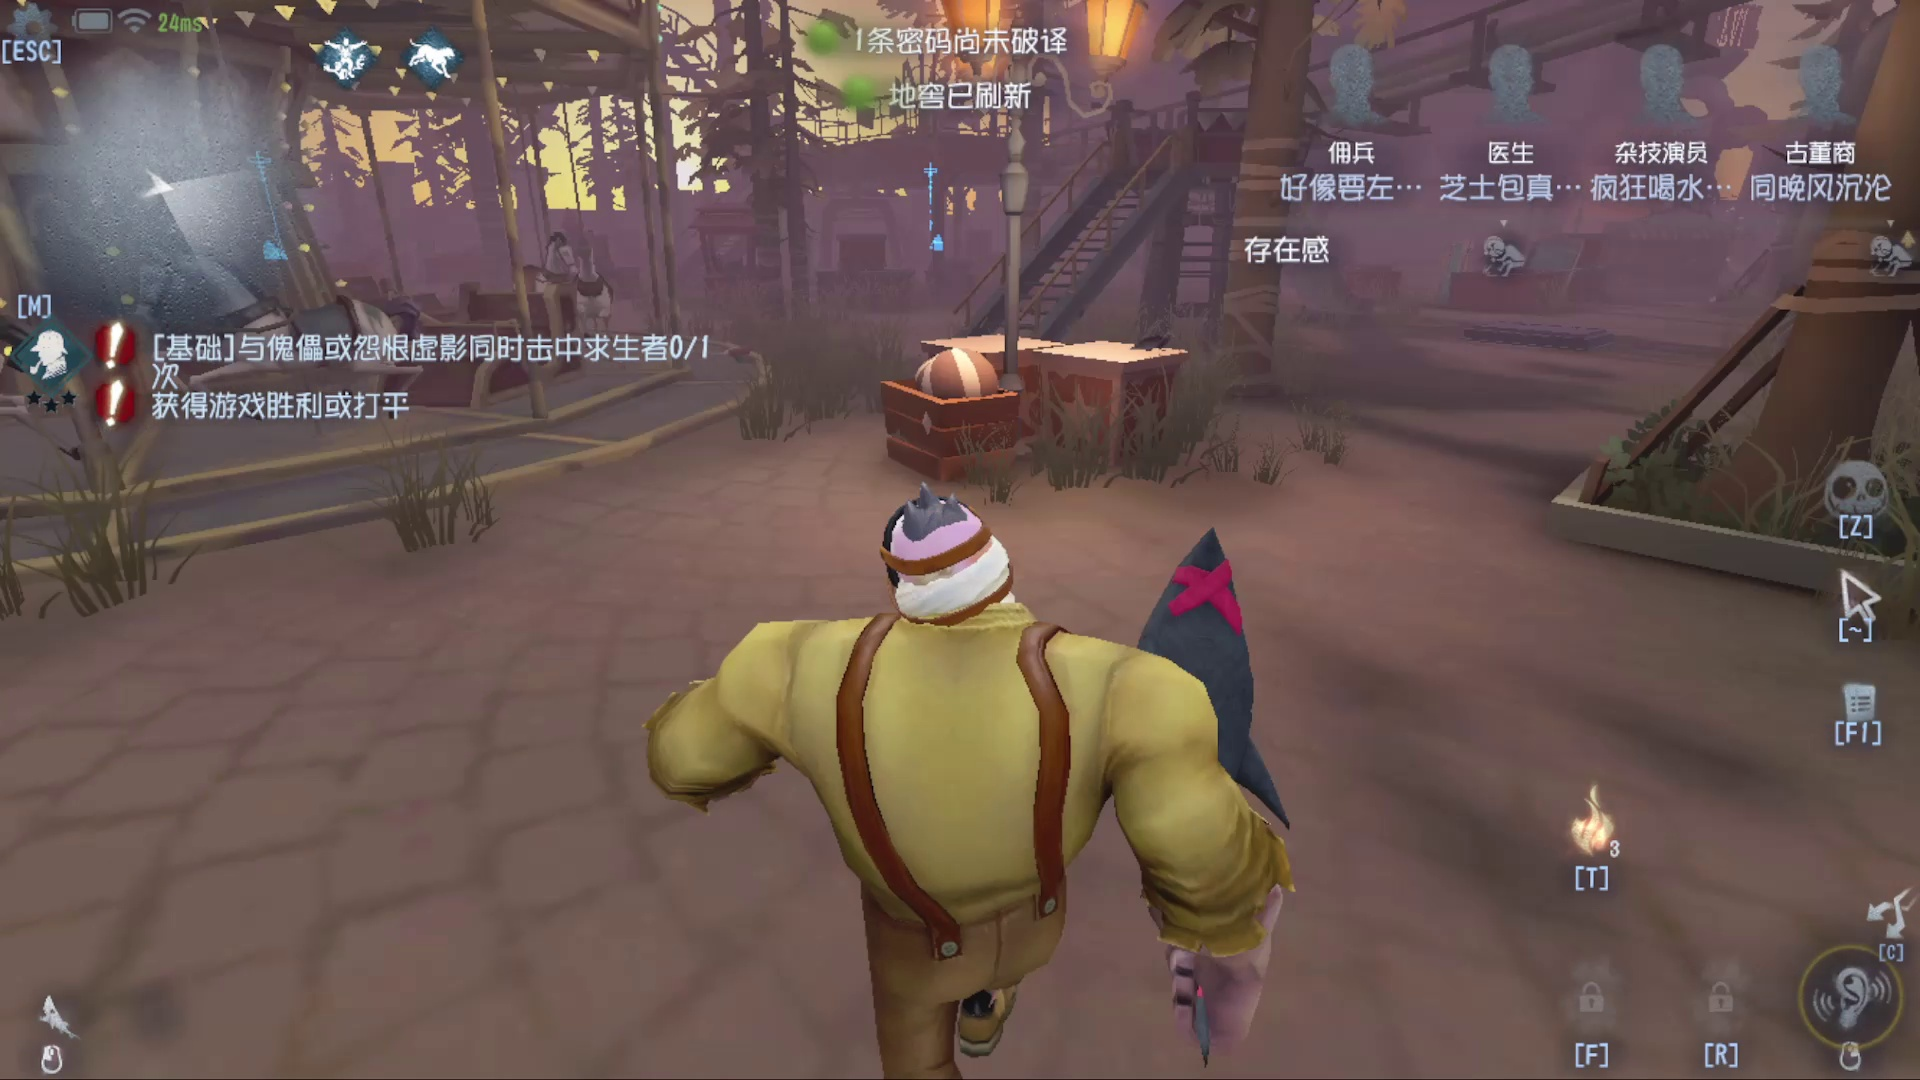密码机: (236, 152, 313, 282), (906, 157, 967, 261)
木板: (1422, 233, 1480, 316), (1532, 232, 1582, 314)
